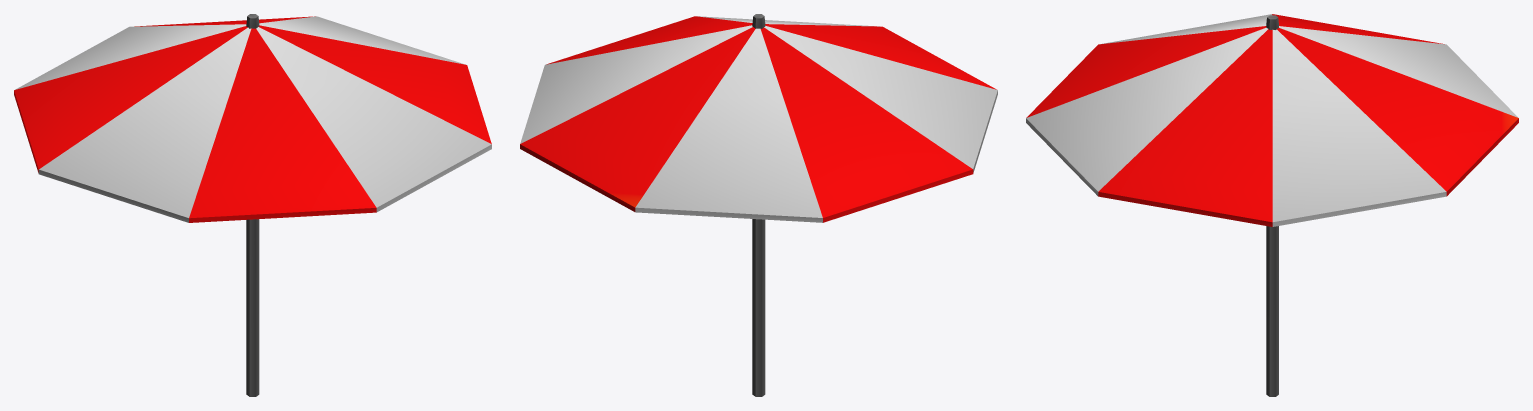
Rendered from BeachProps3.fbx.
3 views of the same model, side by side, from view 1: azimuth 30°, elevation 25°; view 2: azimuth 150°, elevation 25°; view 3: azimuth 270°, elevation 25° (orthographic).
Parts seen in each view (by area): view 1: Payung; view 2: Payung; view 3: Payung.
Part boxes in pixels (x1=…): Payung: x1=14, y1=14, x2=491, y2=396; Payung: x1=520, y1=14, x2=997, y2=396; Payung: x1=1026, y1=14, x2=1518, y2=396.
Bounding box in the file's own units: 138 × 116 × 138.
